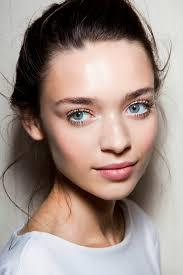face: (43, 39, 159, 201)
